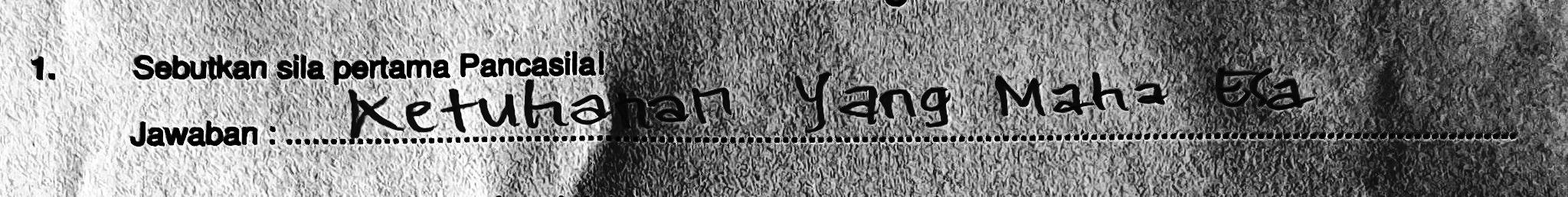jawaban: (345, 70, 734, 137), (792, 71, 961, 133), (994, 70, 1166, 120), (1212, 65, 1312, 109)
